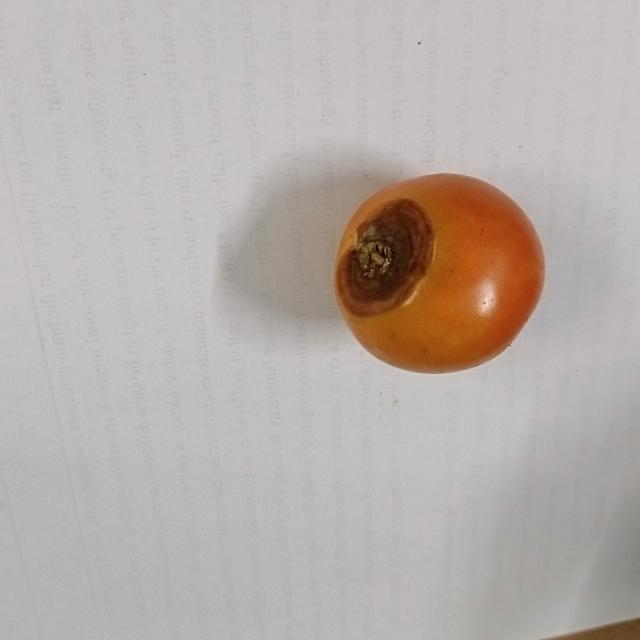Anthrocnose: (336, 195, 428, 324)
